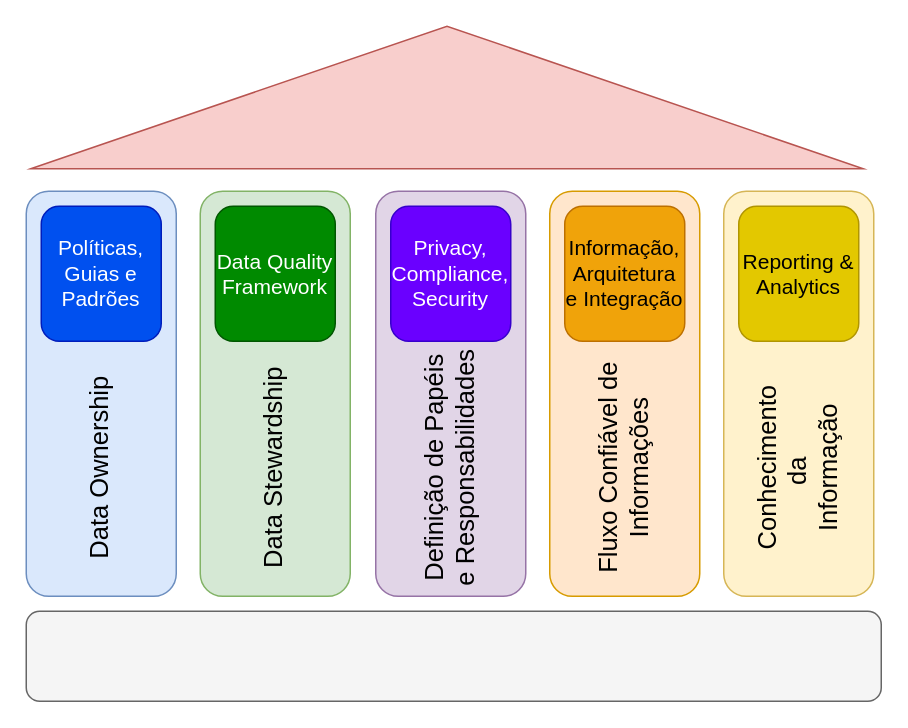
Image size: 908x728. Some labels were removed from this diagram. Here are the shapes that lost their labels. From the top down, the box of each, then its label:
(29, 25, 863, 169): Decisões Orientadas por Dados Saídas Mensuráveis
(25, 610, 881, 701): Pessoas, Processos e Tecnologia
